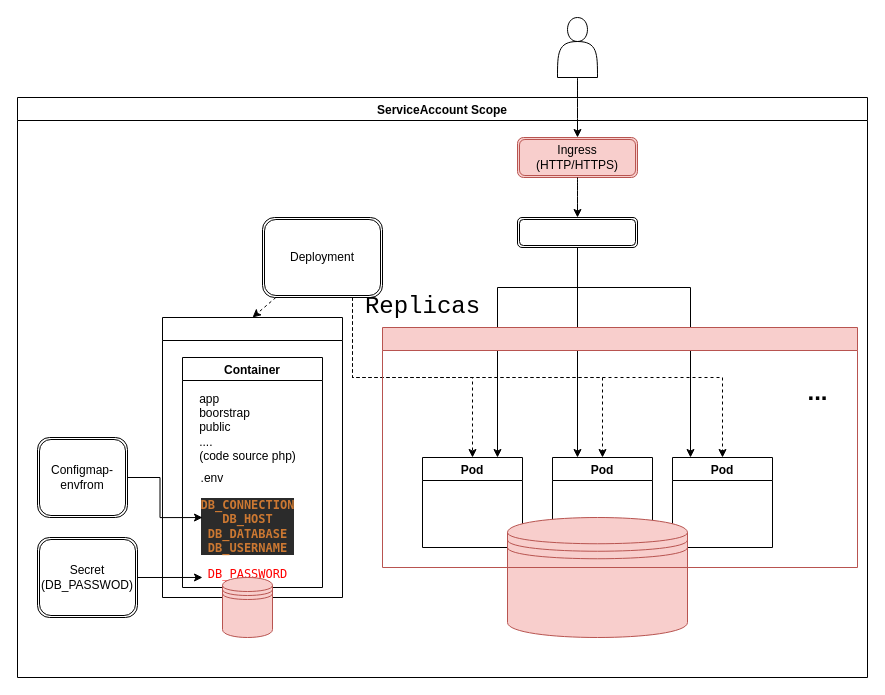
Image size: 885x695. Some labels were removed from this diagram. The shapes that lost their labels are listed below. From the top down, each one's box as (x1, y1, x2, y2) in pixels, then its label:
(516, 216, 638, 248): Service
(162, 316, 342, 598): Spec: Pod template
(382, 326, 858, 568): Auto scaling / down scaling (HPA)
(506, 516, 688, 638): PVC
(222, 576, 272, 638): Volume
